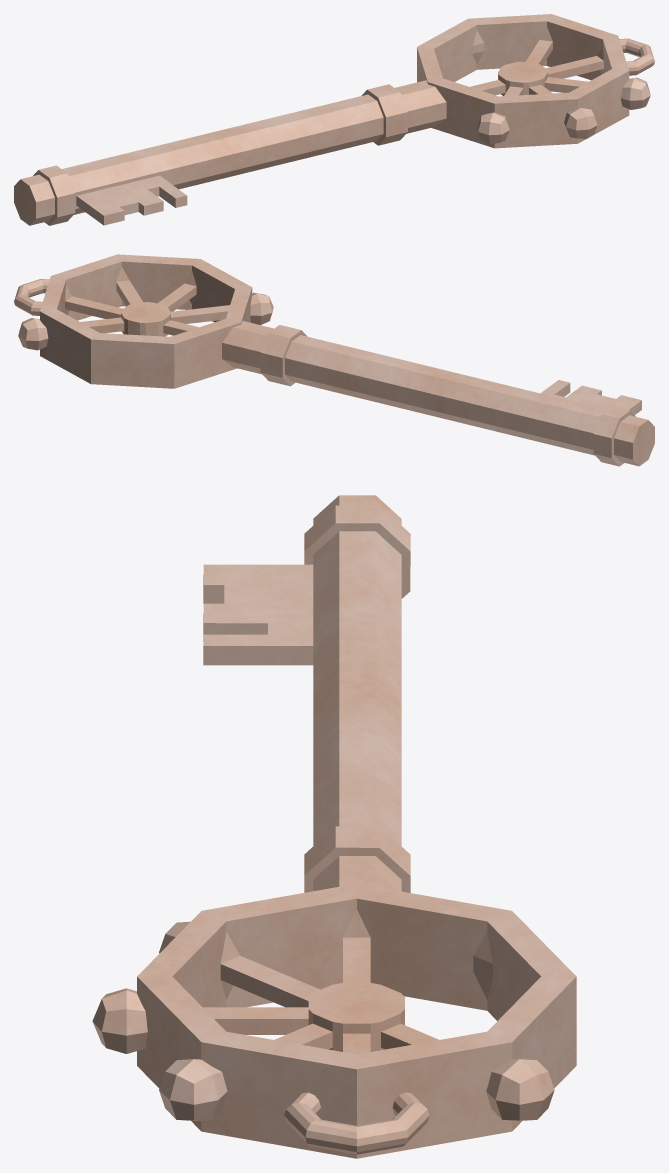
The model's file is Key6.fbx.
3 renders of one model, top to bottom at view 1: azimuth 30°, elevation 25°; view 2: azimuth 150°, elevation 25°; view 3: azimuth 270°, elevation 25°, orthographic. The views are drawn at different scales.
Visible parts, largest first — view 1: Key6; view 2: Key6; view 3: Key6.
Part boxes in pixels (box(x1,y1,x2,y2)): Key6: box(14, 14, 654, 225); Key6: box(14, 254, 654, 466); Key6: box(92, 495, 576, 1158).
Size of the model in its own units: 63.25 by 4.65 by 21.17.
